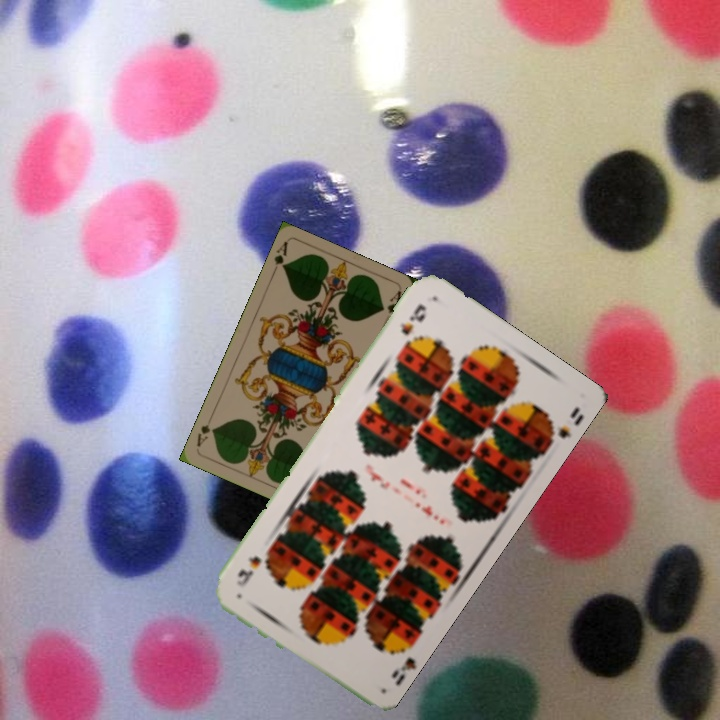GA: (268, 238, 290, 277)
S9: (396, 299, 429, 338), (387, 639, 417, 681)
